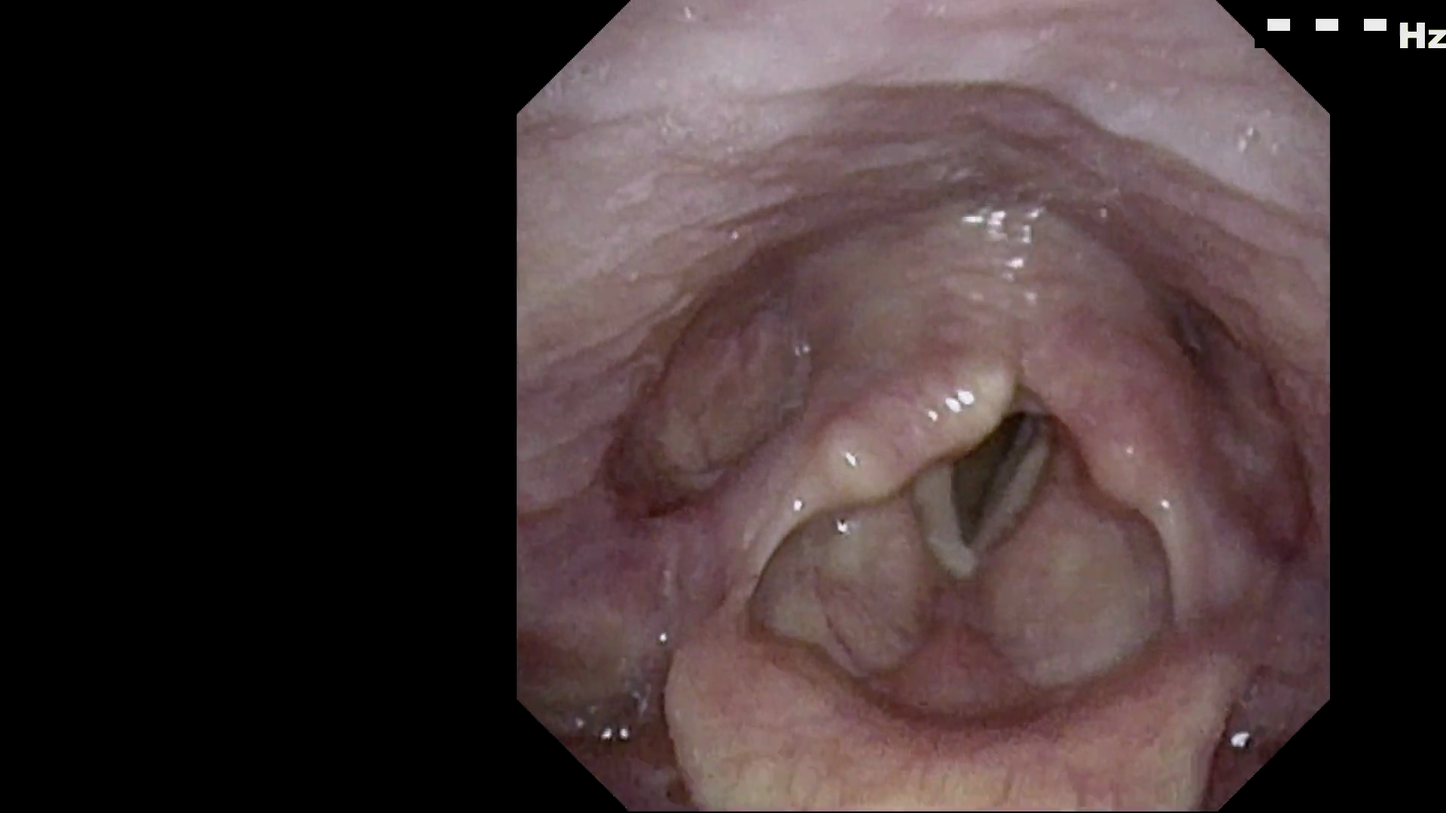epiglottis: (655, 636, 1229, 784)
trachea: (899, 400, 1065, 572)
